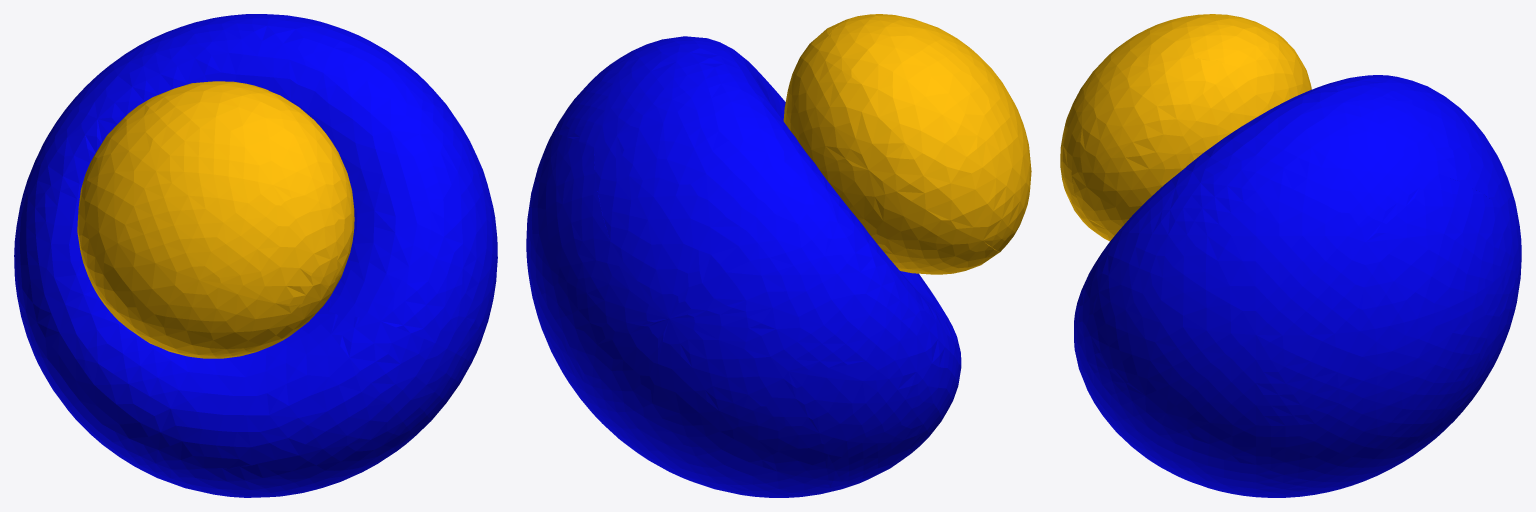
3 views of the same model, side by side, from view 1: azimuth 30°, elevation 25°; view 2: azimuth 150°, elevation 25°; view 3: azimuth 270°, elevation 25° (orthographic). The views are drawn at different scales.
Size of the model in its own units: 11.83 by 11.83 by 11.83.
